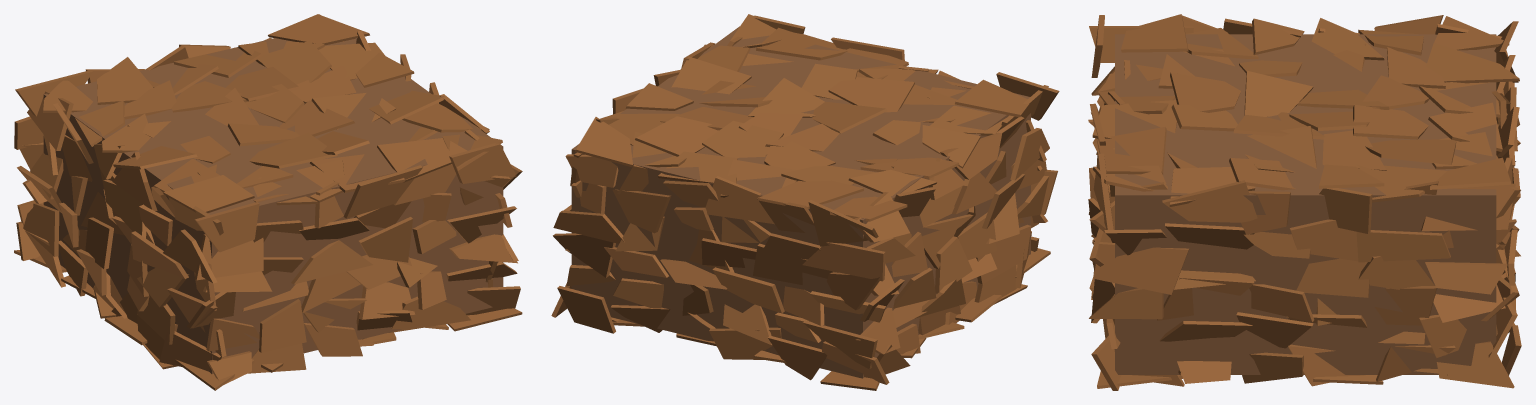
The model's file is mud.fbx.
3 views of the same model, side by side, from view 1: azimuth 30°, elevation 25°; view 2: azimuth 150°, elevation 25°; view 3: azimuth 270°, elevation 25° (orthographic). The views are drawn at different scales.
Visible parts, largest first — view 1: Cube.001; view 2: Cube.001; view 3: Cube.001.
Part boxes in pixels (x1=…): Cube.001: x1=14, y1=14, x2=522, y2=390; Cube.001: x1=551, y1=14, x2=1059, y2=390; Cube.001: x1=1088, y1=14, x2=1521, y2=390.
Size of the model in its own units: 481 by 250 by 480.
